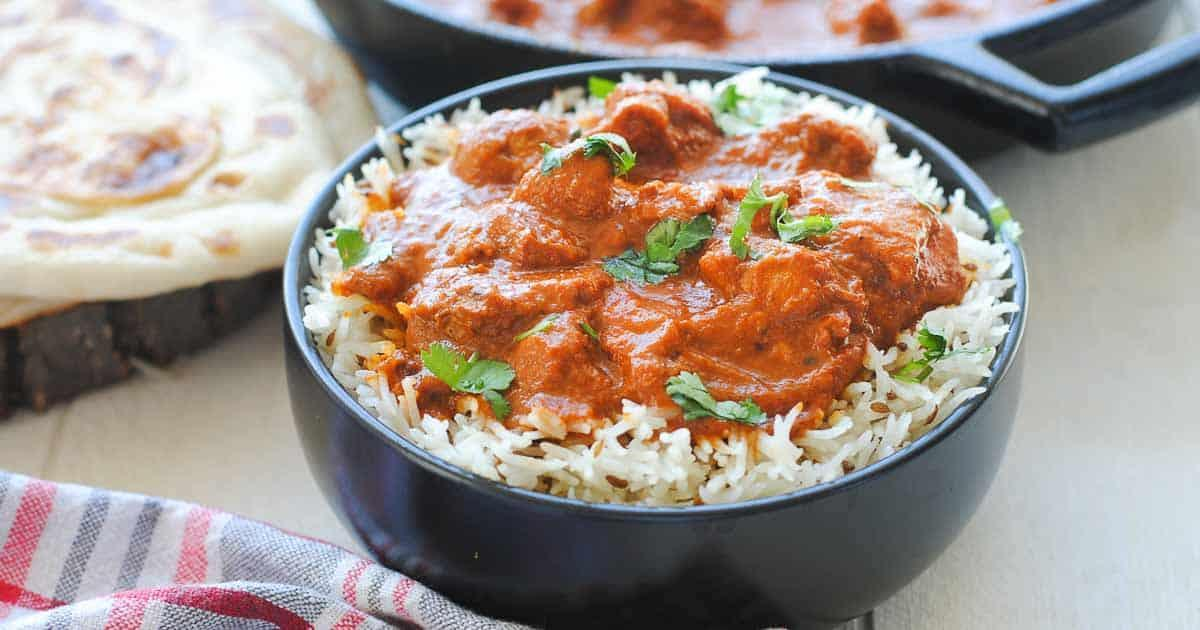chicken: (413, 139, 940, 418)
